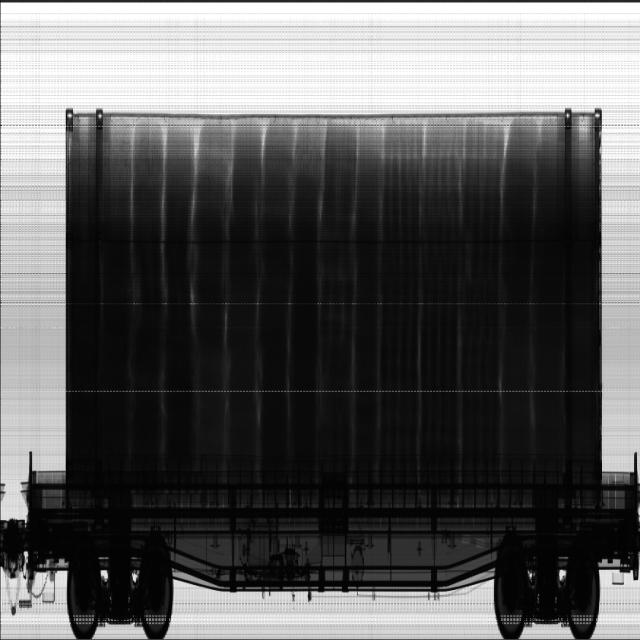textile: (68, 117, 383, 485), (507, 122, 594, 461)
